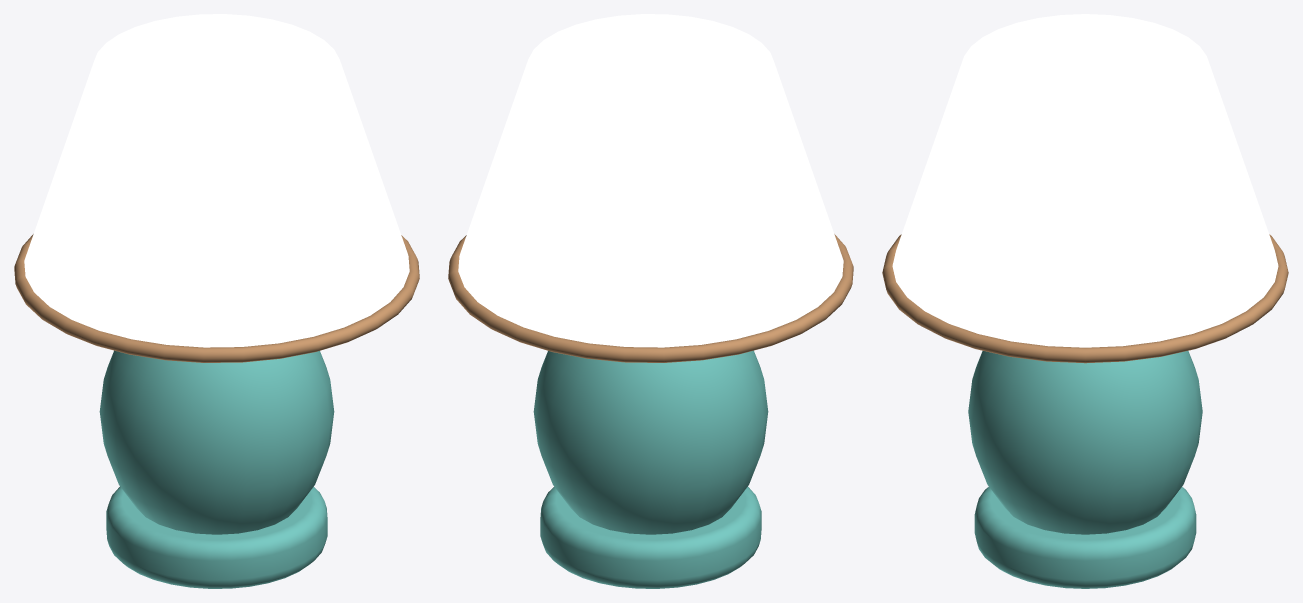
The model's file is lampTableCeramic.glb.
The picture shows the model from 3 angles, left to right: view 1: azimuth 30°, elevation 25°; view 2: azimuth 150°, elevation 25°; view 3: azimuth 270°, elevation 25°; orthographic projection.
Visible parts, largest first — view 1: Linen table lampshade, Rounded ceramic base, Ceramic lamp foot, Shade woven edge; view 2: Linen table lampshade, Rounded ceramic base, Ceramic lamp foot, Shade woven edge; view 3: Linen table lampshade, Rounded ceramic base, Ceramic lamp foot, Shade woven edge.
Boxes of the visible parts, x1,y1,x2,y2 form: Linen table lampshade: (24, 14, 409, 347); Rounded ceramic base: (99, 350, 334, 534); Ceramic lamp foot: (106, 486, 327, 588); Shade woven edge: (14, 234, 419, 362); Linen table lampshade: (458, 14, 843, 347); Rounded ceramic base: (533, 350, 768, 534); Ceramic lamp foot: (540, 486, 761, 588); Shade woven edge: (448, 234, 853, 362); Linen table lampshade: (892, 14, 1278, 347); Rounded ceramic base: (968, 351, 1202, 534); Ceramic lamp foot: (974, 487, 1196, 588); Shade woven edge: (882, 234, 1288, 363).
Size of the model in its own units: 0.624 by 0.815 by 0.624.
